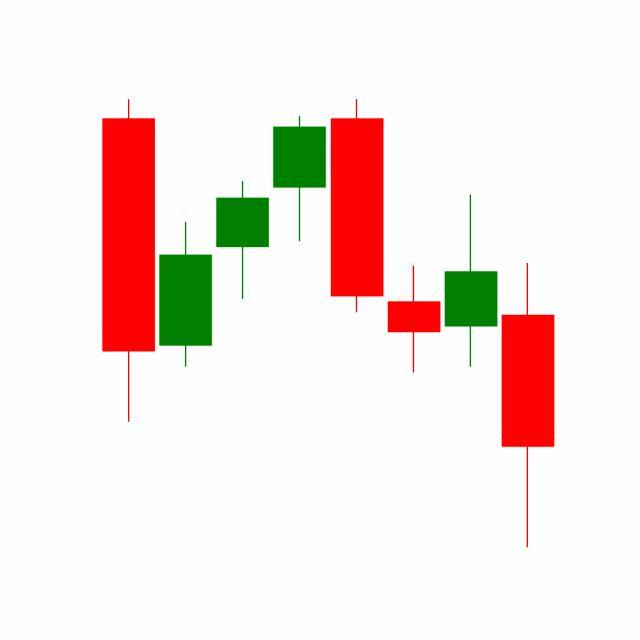Upside-Downside Gap Three Methods: (328, 99, 500, 377)
